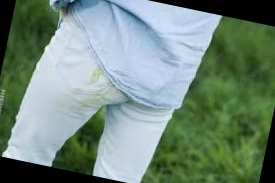earth: (85, 88, 108, 108), (91, 64, 100, 82)
